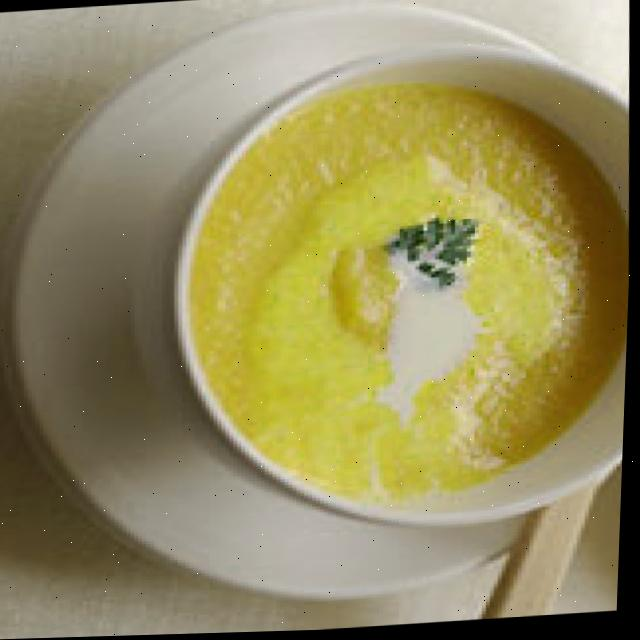汤锅炖物: (0, 0, 640, 624)
